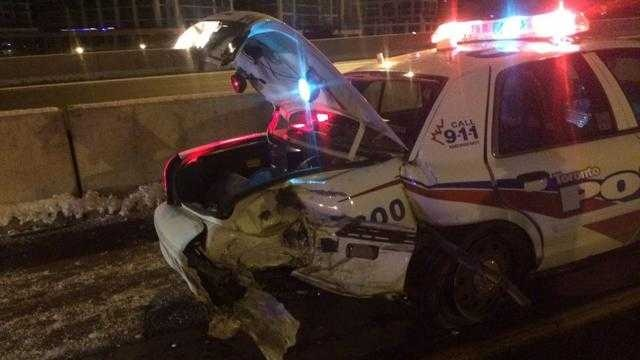Police Car: (285, 7, 638, 333)
